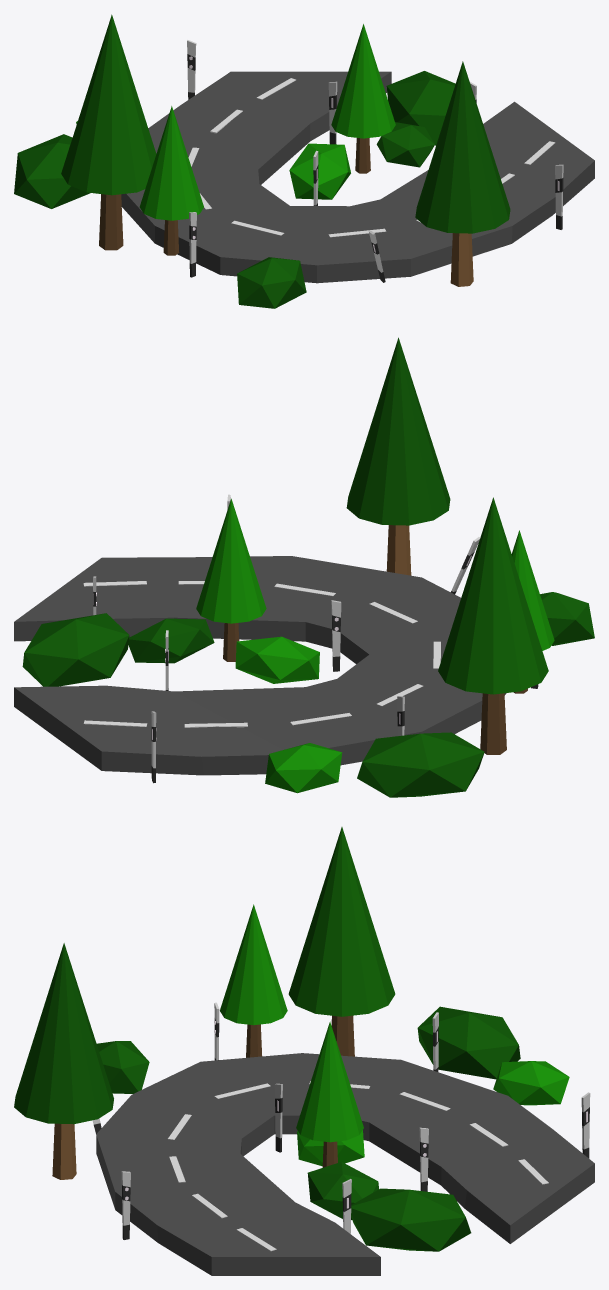
The model's file is street2_01_4.fbx.
3 renders of one model, top to bottom at view 1: azimuth 30°, elevation 25°; view 2: azimuth 150°, elevation 25°; view 3: azimuth 270°, elevation 25°, orthographic. The views are drawn at different scales.
Visible parts, largest first — view 1: street01.009, nadelTree, nadelTree.002, nadelTree.001, nadelTree.003, bush.001, bush, bush.003, bush.002, bush.004, penguin.072, penguin.074 (+2 smaller); view 2: street01.009, nadelTree, nadelTree.002, bush.001, bush, nadelTree.001, bush.002, bush.005, bush.004, bush.003, nadelTree.003, penguin.078; view 3: street01.009, nadelTree, nadelTree.002, bush, bush.001, nadelTree.003, nadelTree.001, bush.005, bush.004, bush.003, bush.002, penguin.072.
Part boxes in pixels (<box>): street01.009: <box>121,71,594,283</box>; nadelTree: <box>61,14,156,250</box>; nadelTree.002: <box>415,61,510,286</box>; nadelTree.001: <box>331,24,395,173</box>; nadelTree.003: <box>139,106,203,255</box>; bush.001: <box>14,134,90,208</box>; bush: <box>386,71,455,145</box>; bush.003: <box>237,257,306,308</box>; bush.002: <box>289,143,350,199</box>; bush.004: <box>376,122,434,167</box>; penguin.072: <box>555,164,563,229</box>; penguin.074: <box>189,212,196,277</box>; street01.009: <box>14,556,506,775</box>; nadelTree: <box>438,497,548,754</box>; nadelTree.002: <box>346,337,450,575</box>; bush.001: <box>357,732,484,797</box>; bush: <box>22,613,129,686</box>; nadelTree.001: <box>196,498,266,661</box>; bush.002: <box>235,636,319,683</box>; bush.005: <box>265,743,342,793</box>; bush.004: <box>128,618,214,663</box>; bush.003: <box>540,592,594,645</box>; nadelTree.003: <box>511,530,554,693</box>; penguin.078: <box>331,600,341,671</box>; street01.009: <box>96,1053,594,1275</box>; nadelTree: <box>288,827,395,1056</box>; nadelTree.002: <box>14,943,113,1179</box>; bush: <box>351,1188,471,1251</box>; bush.001: <box>417,1006,520,1079</box>; nadelTree.003: <box>220,904,287,1057</box>; nadelTree.001: <box>296,1021,363,1167</box>; bush.005: <box>493,1061,569,1105</box>; bush.004: <box>307,1162,378,1219</box>; bush.003: <box>96,1041,149,1093</box>; bush.002: <box>297,1130,364,1166</box>; penguin.072: <box>121,1171,130,1239</box>.
Bounding box in the file's own units: 93.24 × 44.47 × 95.81.
